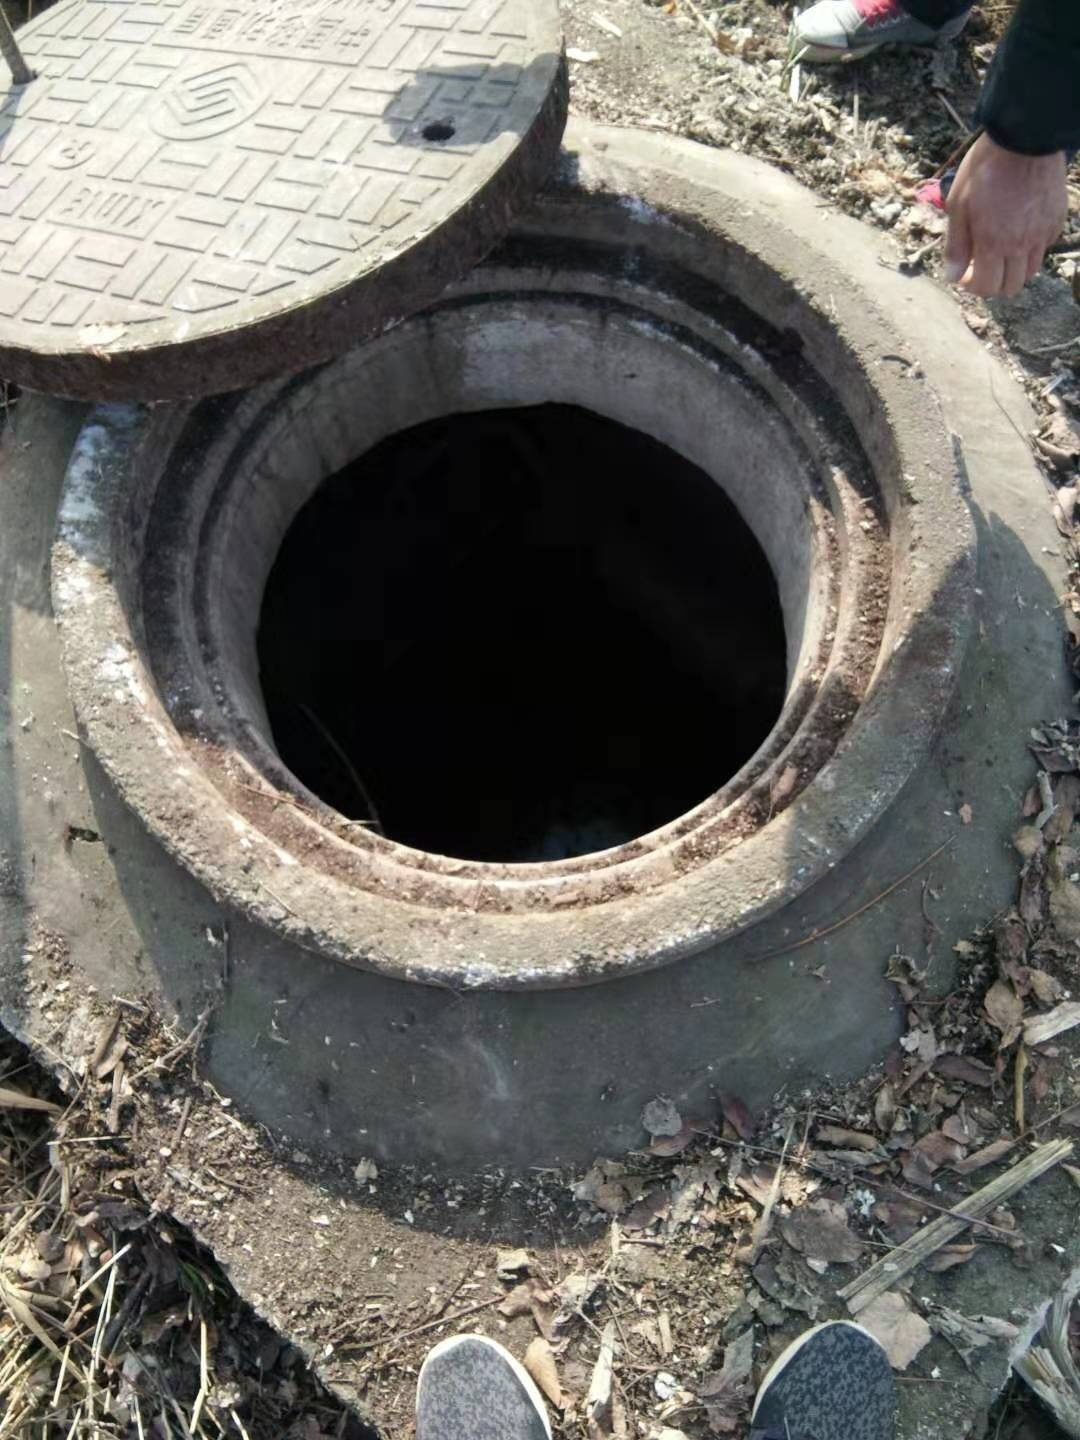uncovered: (7, 1, 982, 982)
